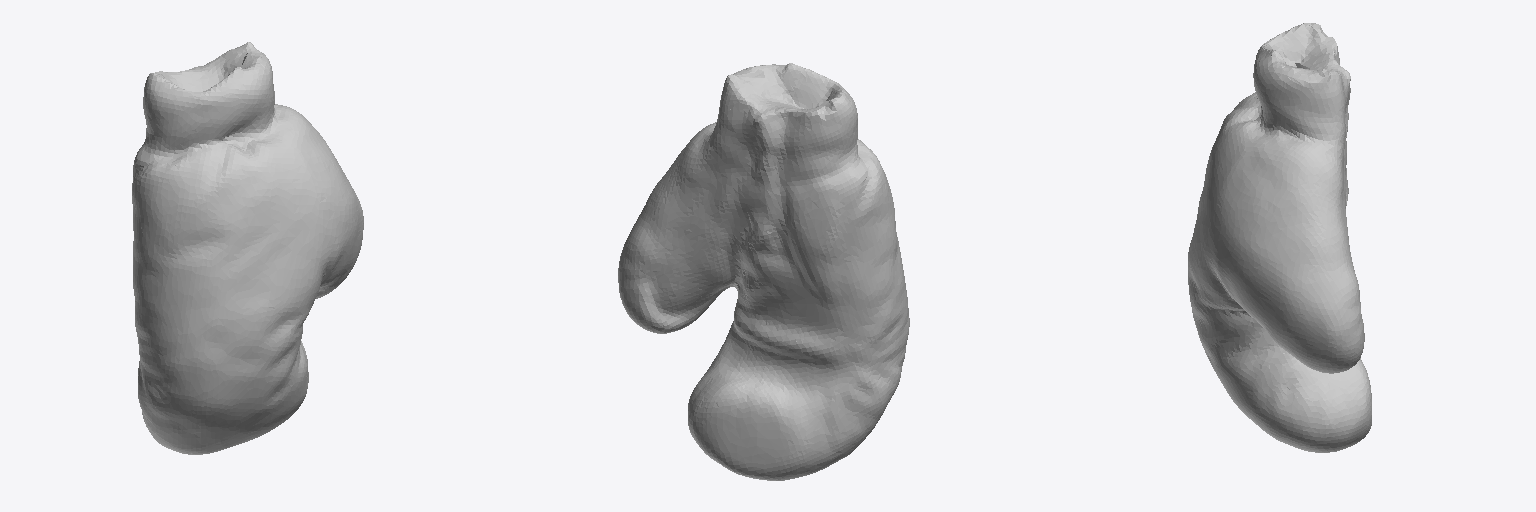
File: nyrkkeilyhanska_1952_2713-1.obj
3 views of the same model, side by side, from view 1: azimuth 30°, elevation 25°; view 2: azimuth 150°, elevation 25°; view 3: azimuth 270°, elevation 25° (orthographic).
Visible parts, largest first — view 1: nyrkkeilyhanska_1952_2713-1; view 2: nyrkkeilyhanska_1952_2713-1; view 3: nyrkkeilyhanska_1952_2713-1.
Part boxes in pixels (bbox=[...]): nyrkkeilyhanska_1952_2713-1: bbox=[132, 42, 363, 454]; nyrkkeilyhanska_1952_2713-1: bbox=[618, 63, 909, 480]; nyrkkeilyhanska_1952_2713-1: bbox=[1188, 23, 1371, 452].
Bounding box in the file's own units: 16.7 × 25.77 × 11.04.